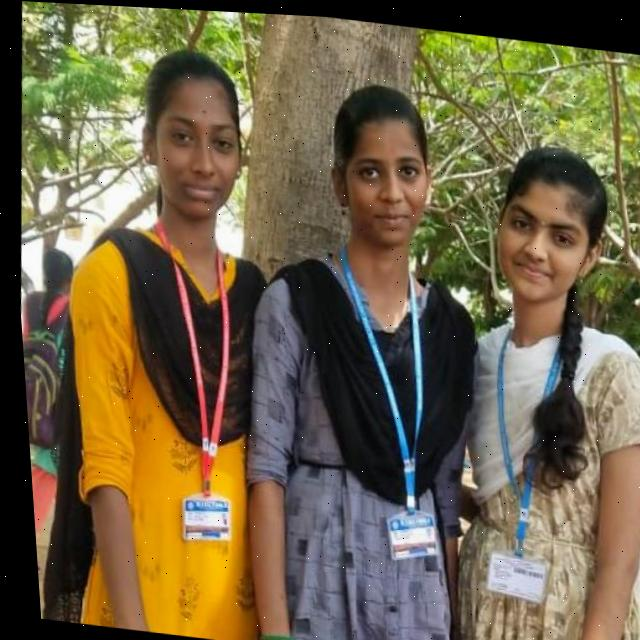id_card: (314, 224, 458, 562), (125, 212, 257, 555), (464, 297, 568, 601)
